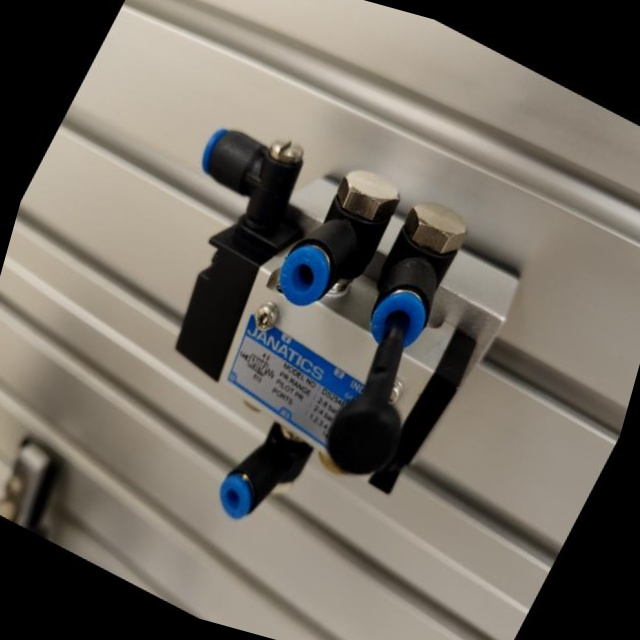5by2 DCV: (30, 63, 582, 625)
